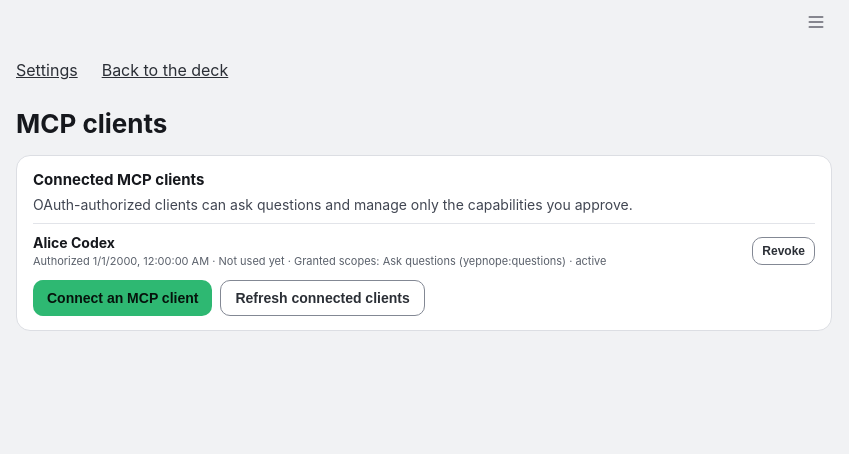
Better Auth account routes › revokes connected MCP clients separately from browser notification devices
expect the button "Rename" is not shown: met
Click the link "Settings".
click(47, 70)  # box [16,60,78,80]
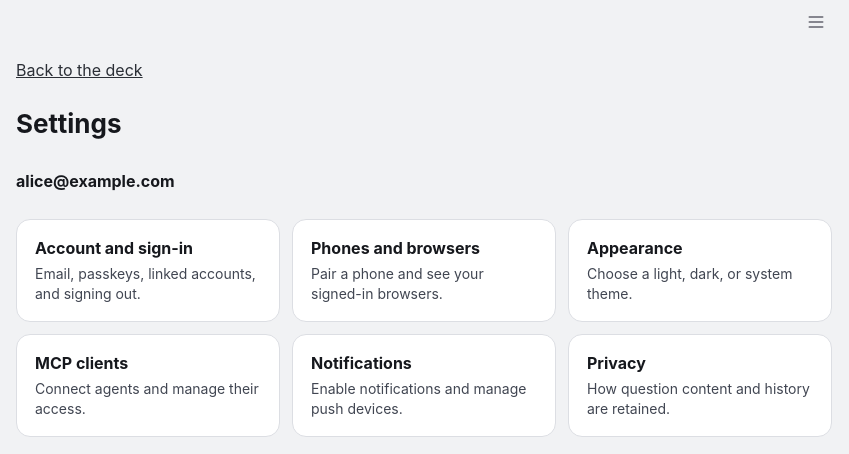
Click the link "Notifications Enable notifications and manage push devices.".
click(424, 386)  # box [292,334,556,437]
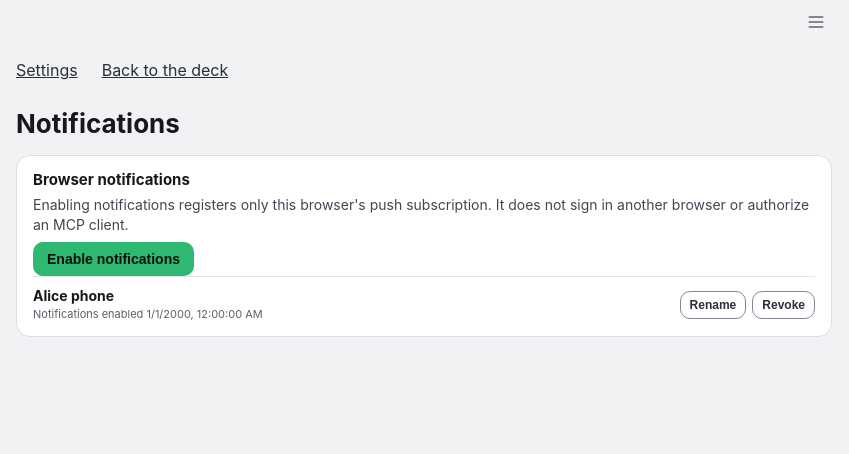
Click the button "Revoke".
click(784, 305)  # box [752,291,815,319]
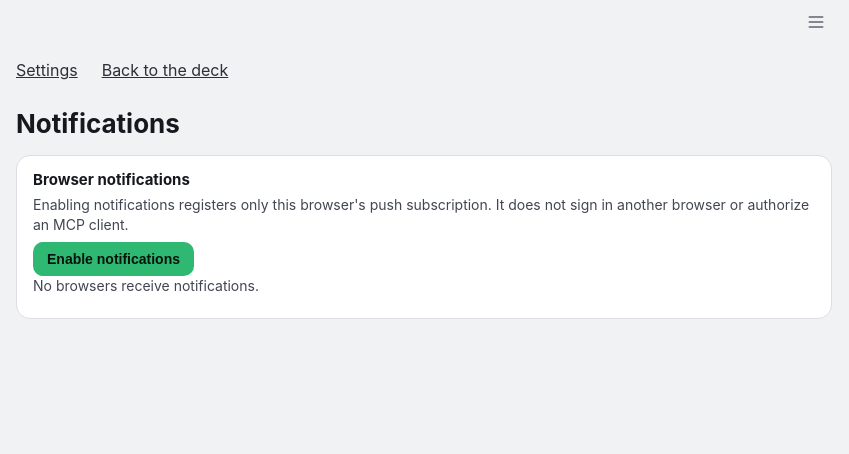
expect the text "No browsers receive notifications." is shown: met, box [33,277,259,294]
Click the link "Settings".
click(47, 70)  # box [16,60,78,80]
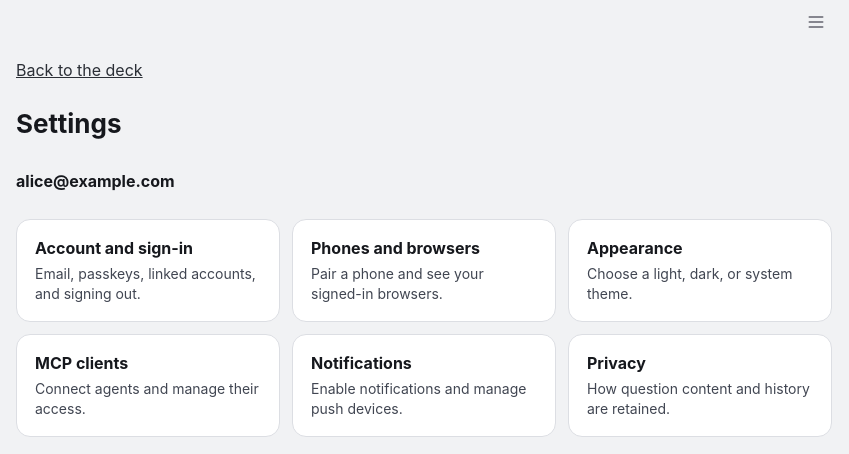
Click the link "MCP clients Connect agents and manage their access.".
click(148, 386)  # box [16,334,280,437]
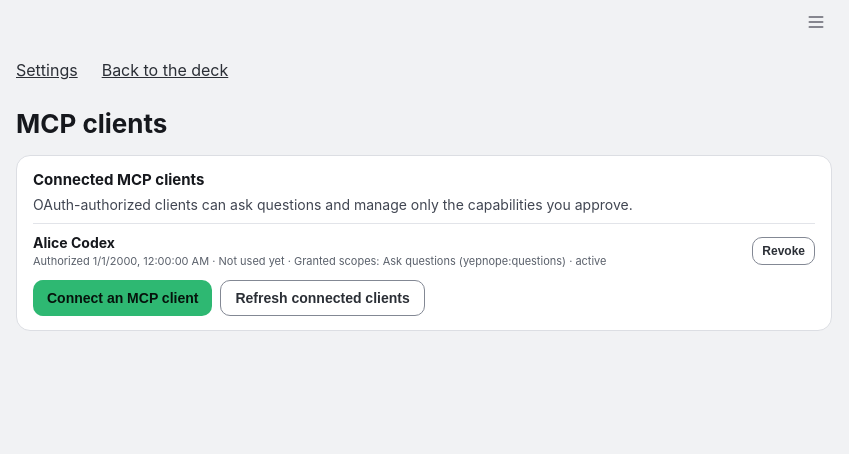
Click the button "Revoke".
click(784, 251)  # box [752,237,815,265]
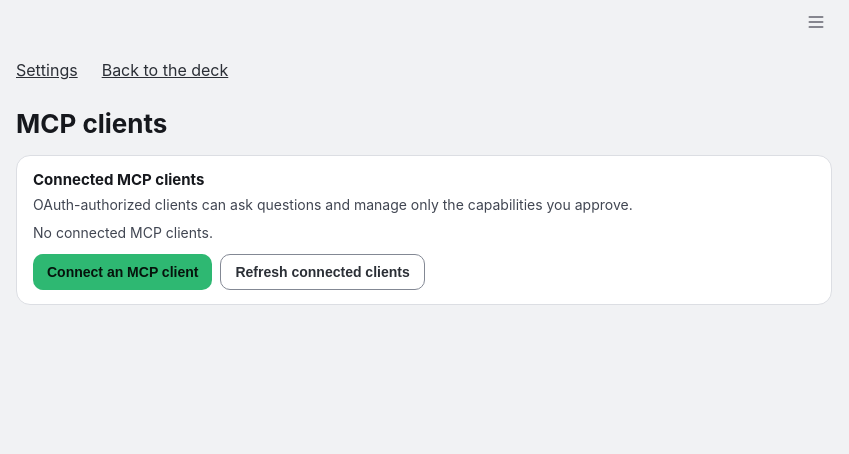
expect the text "No connected MCP clients." is shown: met, box [33,224,213,241]
